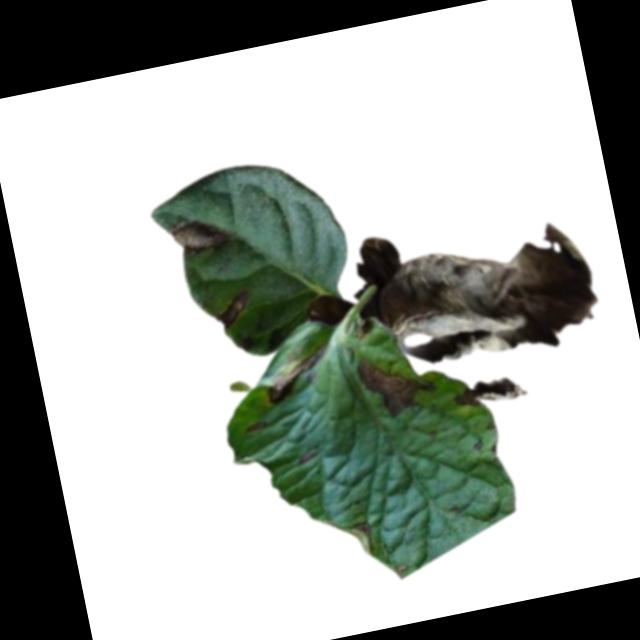Early_blight: (352, 196, 605, 375), (351, 345, 441, 422), (257, 339, 337, 406), (450, 370, 529, 415), (167, 207, 235, 257), (209, 288, 255, 334), (349, 520, 372, 542)
